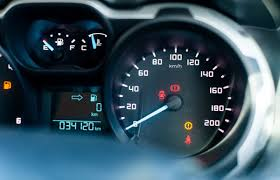Digital_Meter: (50, 120, 101, 133)
